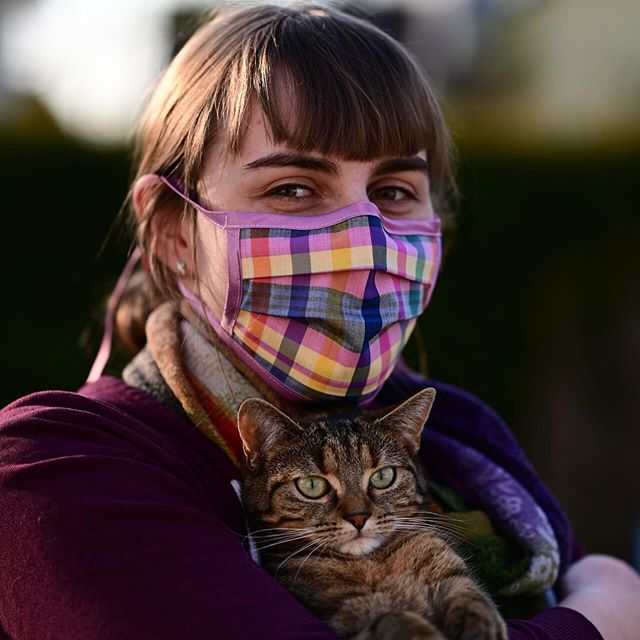homemade: (152, 200, 461, 393)
